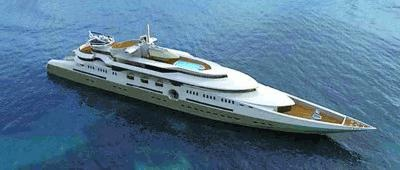yacht: (43, 24, 376, 136)
